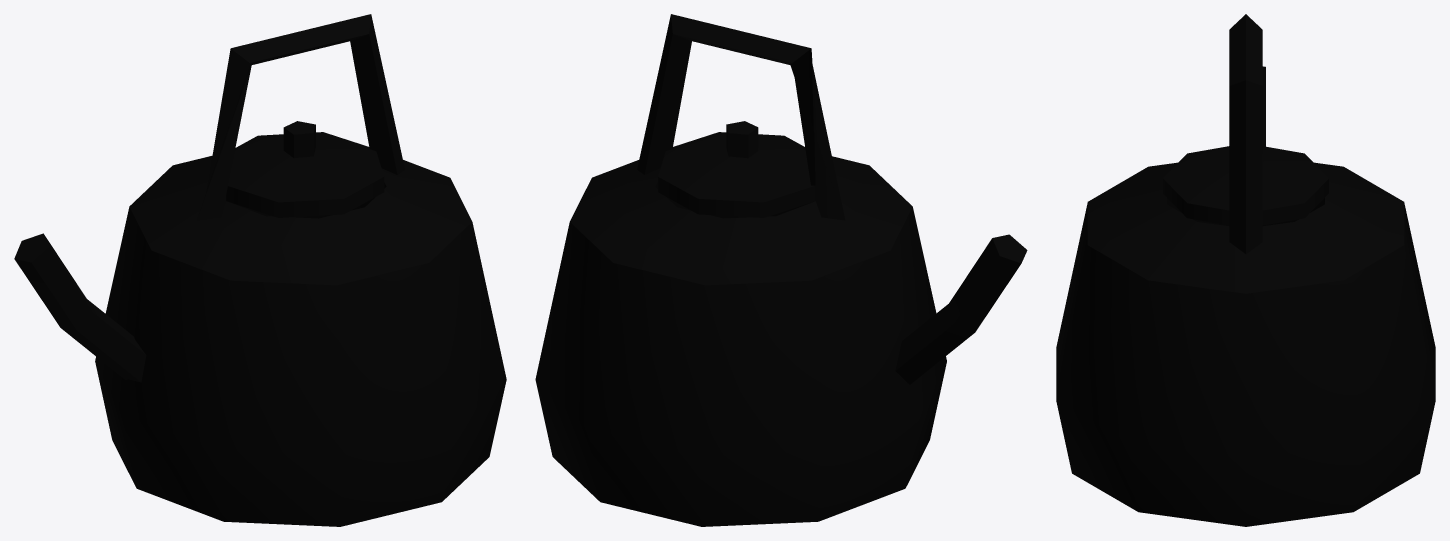
The model's file is SM_kettle_stove.fbx.
3 views of the same model, side by side, from view 1: azimuth 30°, elevation 25°; view 2: azimuth 150°, elevation 25°; view 3: azimuth 270°, elevation 25° (orthographic). The views are drawn at different scales.
Visible parts, largest first — view 1: kettle_stove, kettle_stove_lid; view 2: kettle_stove, kettle_stove_lid; view 3: kettle_stove, kettle_stove_lid.
Part boxes in pixels (x1,y1,x2,y2): kettle_stove: (14,14,506,526); kettle_stove_lid: (226,121,384,217); kettle_stove: (535,14,1027,526); kettle_stove_lid: (658,121,815,217); kettle_stove: (1056,14,1435,526); kettle_stove_lid: (1163,146,1328,225).
Size of the model in its own units: 0.3098 by 0.2671 by 0.2283.
